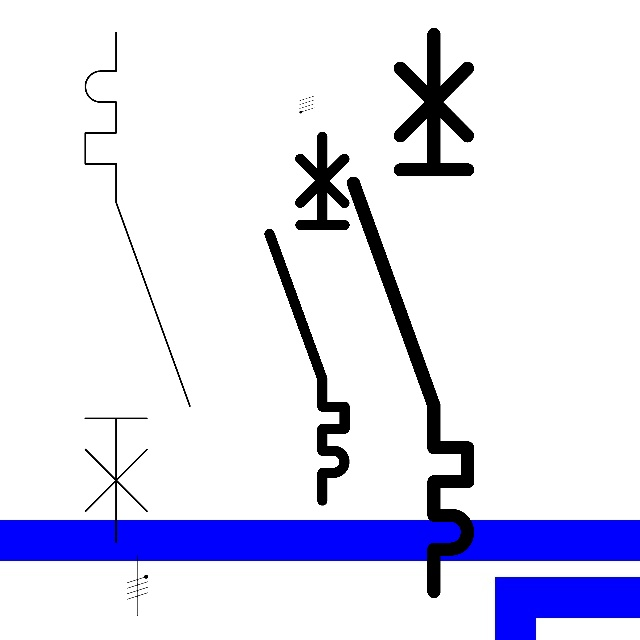interruptor_termomagnetico: (339, 20, 482, 606), (72, 19, 203, 555), (260, 127, 354, 510)
